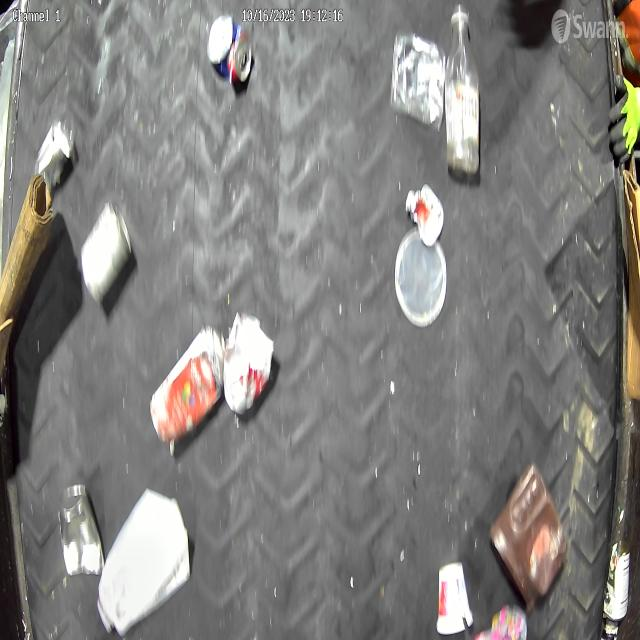can: (80, 200, 134, 304), (56, 482, 106, 580), (206, 13, 254, 88), (602, 539, 631, 622)
plastic_bottle: (444, 0, 482, 178)
